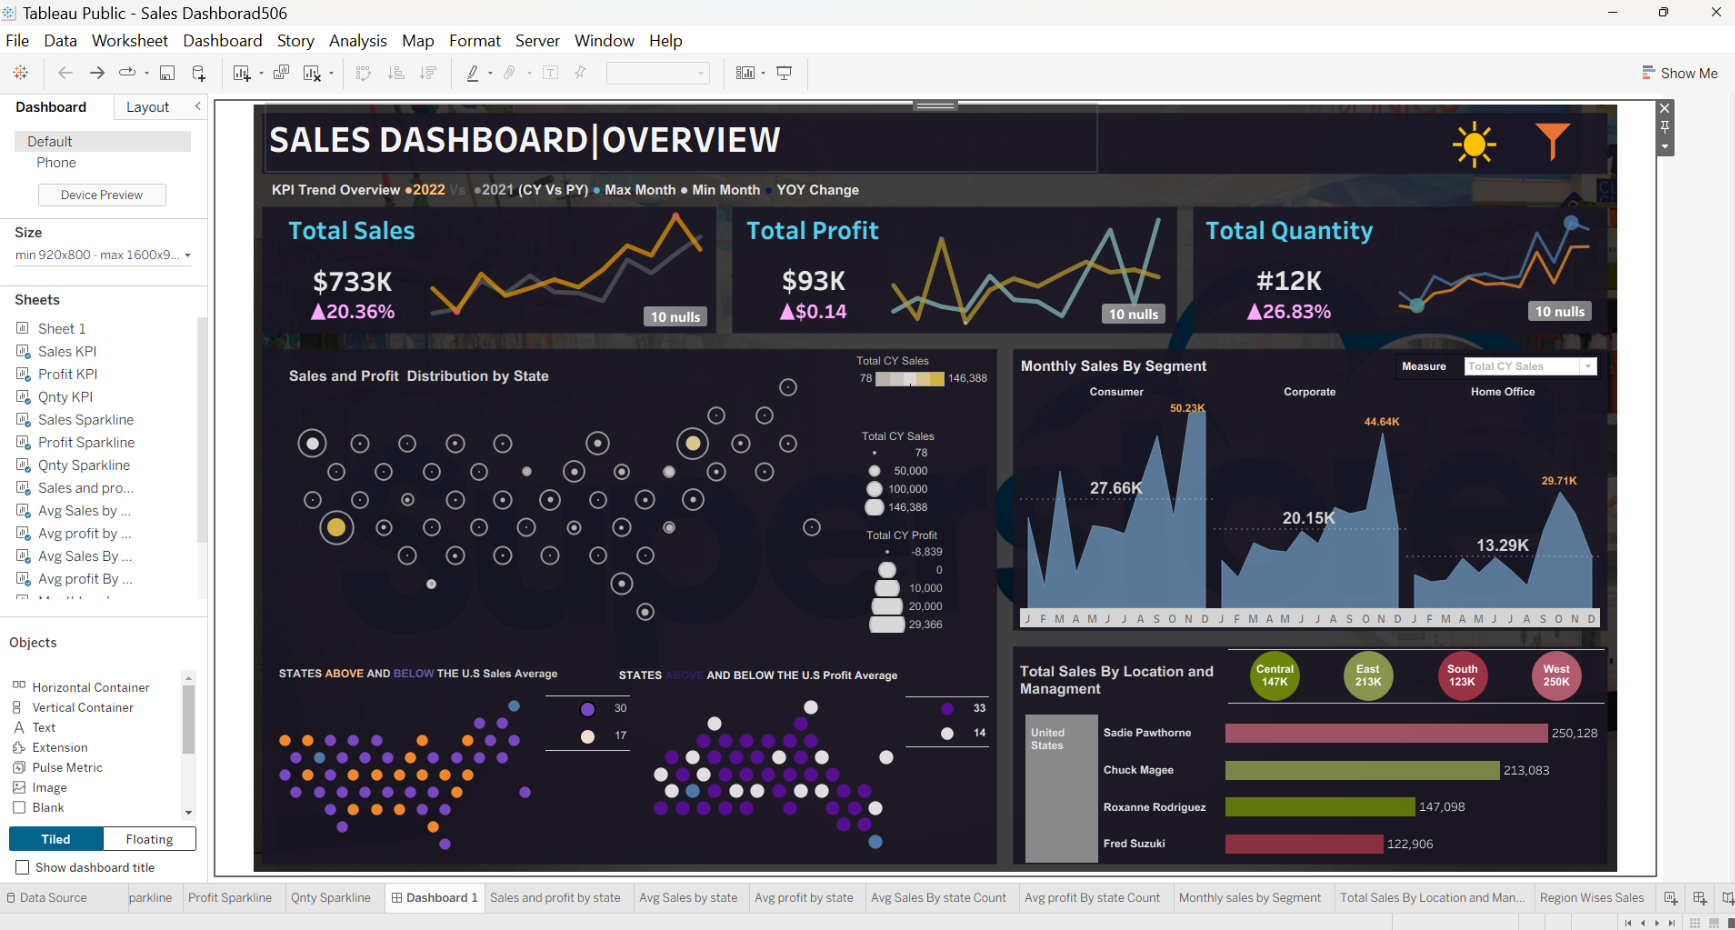

This screenshot's page, from the dashboard's own definition file:
{"tool":"tableau","page":{"name":"Dashboard 1","canvas":[1000,1000],"units":"permille","ordinal":0},"visuals":[{"type":"image","param":"C:/Users/LENOVO/Downloads/Sales Dashboard Background.pptx.png","box":[5,9.2,990,981.6]},{"type":"text","box":[40,13.8,570.6,84.1]},{"type":"image","param":"C:/Users/LENOVO/OneDrive/Pictures/Picture1.png","box":[906.9,27.7,39.4,68]},{"type":"image","param":"C:/Users/LENOVO/OneDrive/Pictures/Picture2.svg","box":[848.1,32.3,45,64.5]},{"type":"text","box":[41.9,101.4,464.4,41.5]},{"type":"worksheet","title":"Sales Sparkline","mark":"Automatic","rows":["Calculation_1248270907658245"],"cols":["Order Date"],"box":[145.6,144,200.6,156.7]},{"type":"worksheet","title":"Qnty Sparkline ","mark":"Automatic","rows":["min max month (copy)_1403029595467777"],"cols":["Order Date"],"box":[813.1,148.6,141.2,145.2]},{"type":"worksheet","title":"Sales KPI","mark":"Automatic","box":[41.2,149.8,116.2,146.3]},{"type":"worksheet","title":"Profit Sparkline ","mark":"Automatic","rows":["min max month (copy)_1403029592539136"],"cols":["Order Date"],"box":[462.5,149.8,198.8,147.5]},{"type":"worksheet","title":"Profit KPI","mark":"Automatic","box":[366.2,150.9,105.6,146.3]},{"type":"worksheet","title":"Qnty KPI","mark":"Automatic","box":[683.1,152.1,120.6,140.6]},{"type":"text","box":[556.9,328.3,161.2,34.6]},{"type":"parameter","param":"[Parameters].[Parameter 1388191505948675]","box":[816.2,329.5,141.2,33.4]},{"type":"legend","title":"Sales and profit by state","param":"[federated.1wl40701hfdxo01h9s5ze0gfbxyc].[sum:Calculation_1060803776647168:qk]","box":[445.6,330.7,93.1,70.3]},{"type":"worksheet","title":"Sales and profit by state","mark":"Circle","rows":["Row"],"cols":["Column","Column"],"box":[45,336.4,393.1,356]},{"type":"text","box":[53.8,341,220.6,34.6]},{"type":"worksheet","title":"Monthly sales by Segment","mark":"Area","rows":["Calculation_1388191507525636"],"cols":["Segment","Order Date"],"box":[558.1,366.4,398.8,309.9]},{"type":"legend","title":"Sales and profit by state","param":"[federated.1wl40701hfdxo01h9s5ze0gfbxyc].[sum:Calculation_1060803776647168:qk]","box":[449.4,426.3,83.8,114.1]},{"type":"legend","title":"Sales and profit by state","param":"[federated.1wl40701hfdxo01h9s5ze0gfbxyc].[sum:Total CY Sales (copy)_106080383400","box":[452.5,551.8,77.5,137.1]},{"type":"worksheet","title":"Region Wises Sales","mark":"Circle","cols":["Region"],"box":[701.2,703.9,258.8,69.1]},{"type":"text","box":[556.2,707.4,141.9,72.6]},{"type":"text","box":[46.9,718.9,220.6,33.4]},{"type":"text","box":[280.6,721.2,220.6,33.4]},{"type":"worksheet","title":"Avg Sales by state","mark":"Circle","rows":["Row"],"cols":["Column"],"box":[40.6,753.5,189.4,218.9]},{"type":"worksheet","title":"Avg profit by state","mark":"Circle","rows":["Row"],"cols":["Column"],"box":[298.8,755.8,180,213.1]},{"type":"worksheet","title":"Avg Sales By state Count","mark":"Circle","rows":["Calculation_0740853825486850"],"box":[231.9,762.7,58.1,70.3]},{"type":"worksheet","title":"Avg profit By state Count","mark":"Circle","rows":["Sales Avg color (copy)_1388191483240450"],"box":[479.4,763.8,57.5,64.5]},{"type":"worksheet","title":"Total Sales By Location and Managment","mark":"Automatic","rows":["Country/Region","Regional Manager"],"cols":["Calculation_1060803776647168"],"box":[561.9,786.9,399.4,187.8]}]}

Visuals, with their boxes on the dashboard's canvas, which has no fixed pixel size, in thousandths of its width and height (x1, y1, x2, y2). These are canvas units, not pixel positions in the 1735x930 screenshot, which may show the page scaled, cropped or inside an application window:
image: bbox=(5, 9, 995, 991)
text: bbox=(40, 14, 611, 98)
image: bbox=(907, 28, 946, 96)
image: bbox=(848, 32, 893, 97)
text: bbox=(42, 101, 506, 143)
"Sales Sparkline" worksheet: bbox=(146, 144, 346, 301)
"Qnty Sparkline " worksheet: bbox=(813, 149, 954, 294)
"Sales KPI" worksheet: bbox=(41, 150, 157, 296)
"Profit Sparkline " worksheet: bbox=(462, 150, 661, 297)
"Profit KPI" worksheet: bbox=(366, 151, 472, 297)
"Qnty KPI" worksheet: bbox=(683, 152, 804, 293)
text: bbox=(557, 328, 718, 363)
parameter: bbox=(816, 330, 957, 363)
"Sales and profit by state" legend: bbox=(446, 331, 539, 401)
"Sales and profit by state" worksheet (Circle marks): bbox=(45, 336, 438, 692)
text: bbox=(54, 341, 274, 376)
"Monthly sales by Segment" worksheet (Area marks): bbox=(558, 366, 957, 676)
"Sales and profit by state" legend: bbox=(449, 426, 533, 540)
"Sales and profit by state" legend: bbox=(452, 552, 530, 689)
"Region Wises Sales" worksheet (Circle marks): bbox=(701, 704, 960, 773)
text: bbox=(556, 707, 698, 780)
text: bbox=(47, 719, 268, 752)
text: bbox=(281, 721, 501, 755)
"Avg Sales by state" worksheet (Circle marks): bbox=(41, 754, 230, 972)
"Avg profit by state" worksheet (Circle marks): bbox=(299, 756, 479, 969)
"Avg Sales By state Count" worksheet (Circle marks): bbox=(232, 763, 290, 833)
"Avg profit By state Count" worksheet (Circle marks): bbox=(479, 764, 537, 828)
"Total Sales By Location and Managment" worksheet: bbox=(562, 787, 961, 975)
